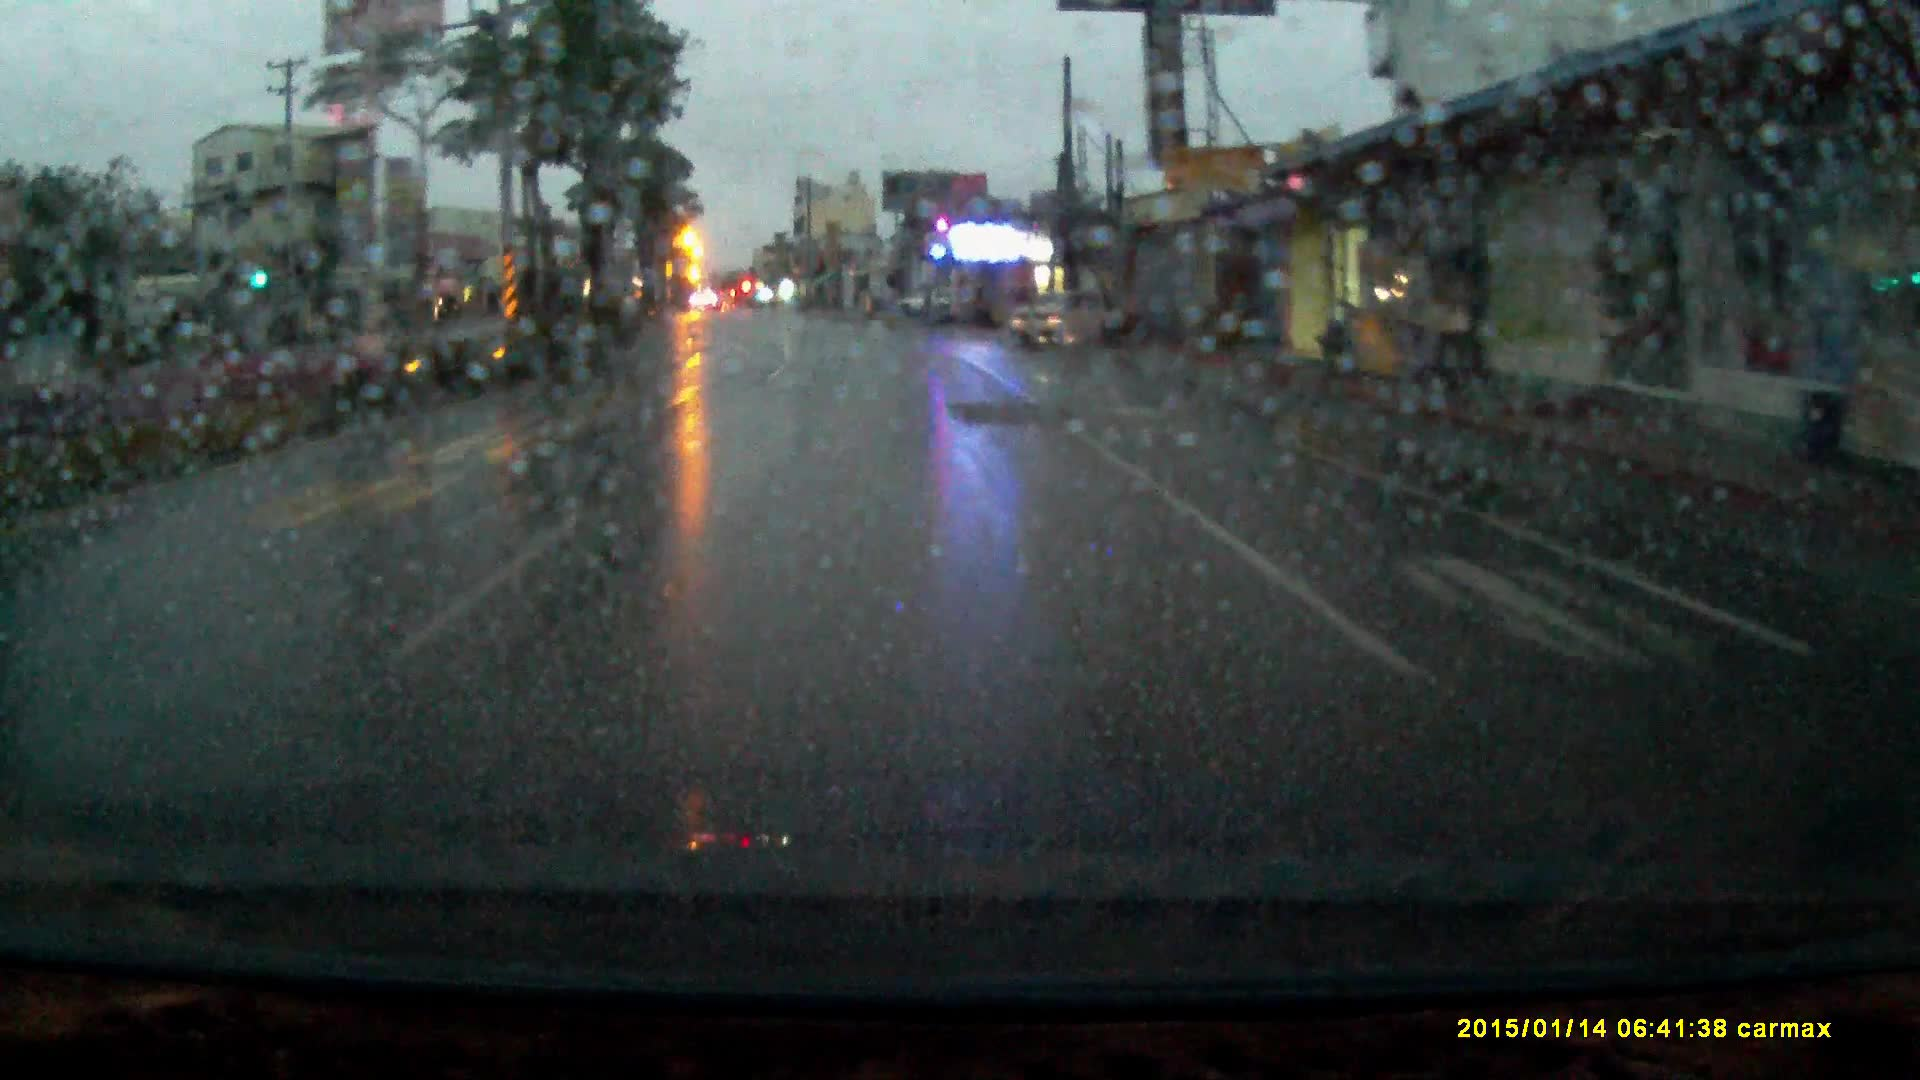vehicle: (1007, 289, 1106, 352), (898, 289, 952, 316)
